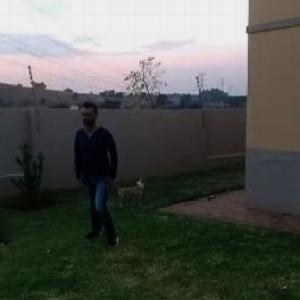follow: (73, 95, 124, 252)
